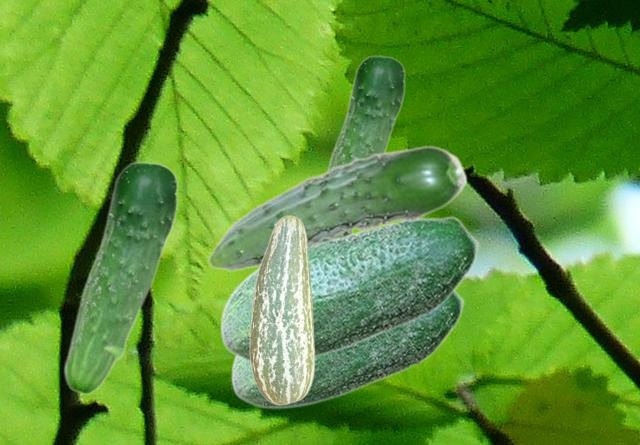cucumber: (219, 215, 479, 363), (207, 145, 467, 270), (230, 290, 464, 408), (62, 161, 178, 394), (327, 55, 405, 234), (249, 215, 314, 404)
